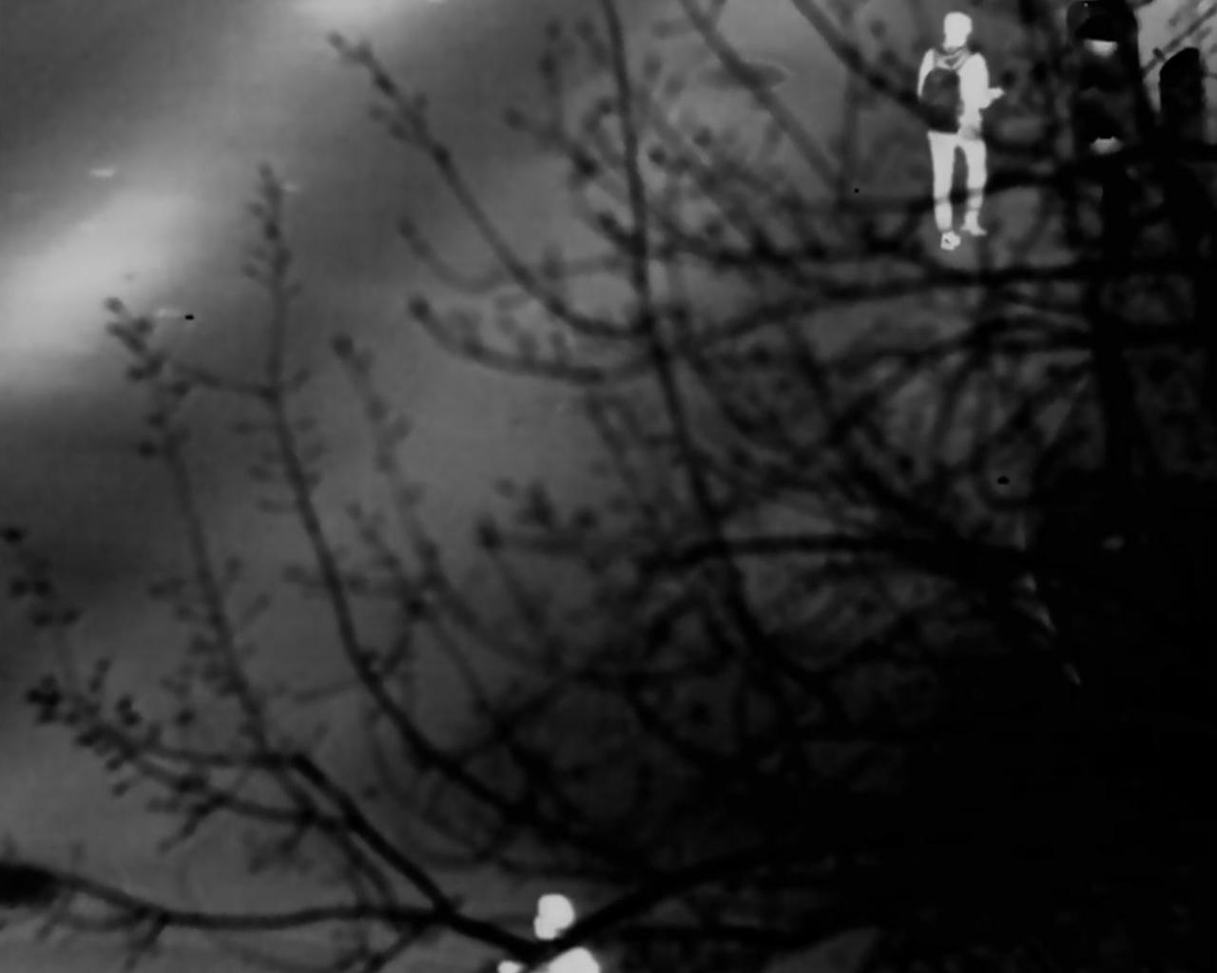person: (919, 11, 1007, 251), (497, 892, 607, 973)
